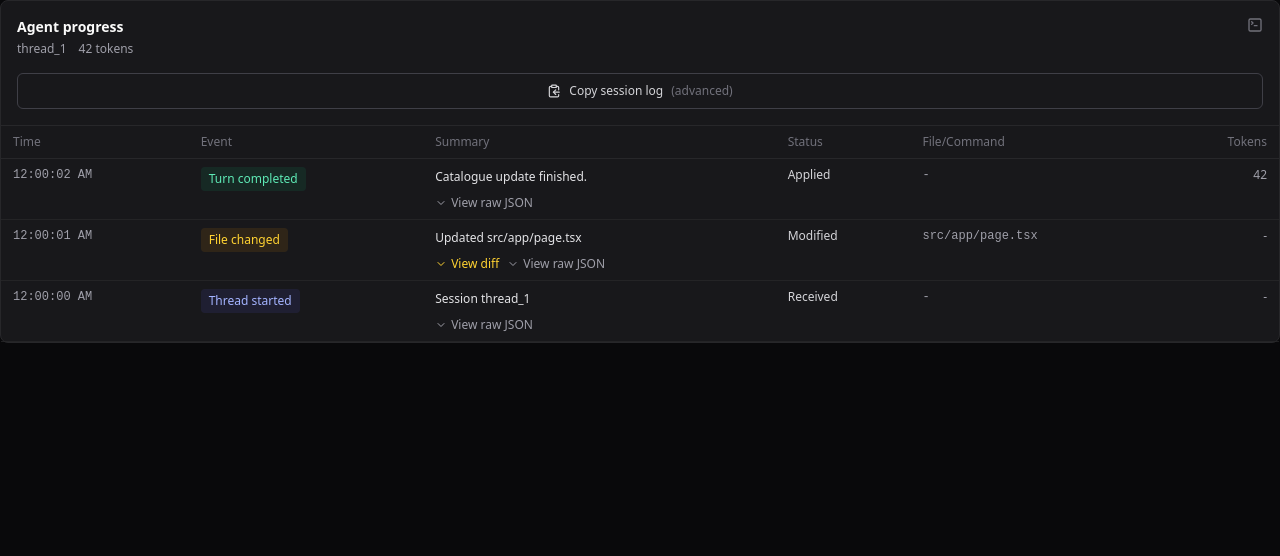
DebugPanel › keeps raw JSON hidden by default and visible when expanded
Click the button "View raw JSON" below "Updated src/app/page.tsx": (556, 264) [507,256,605,272]
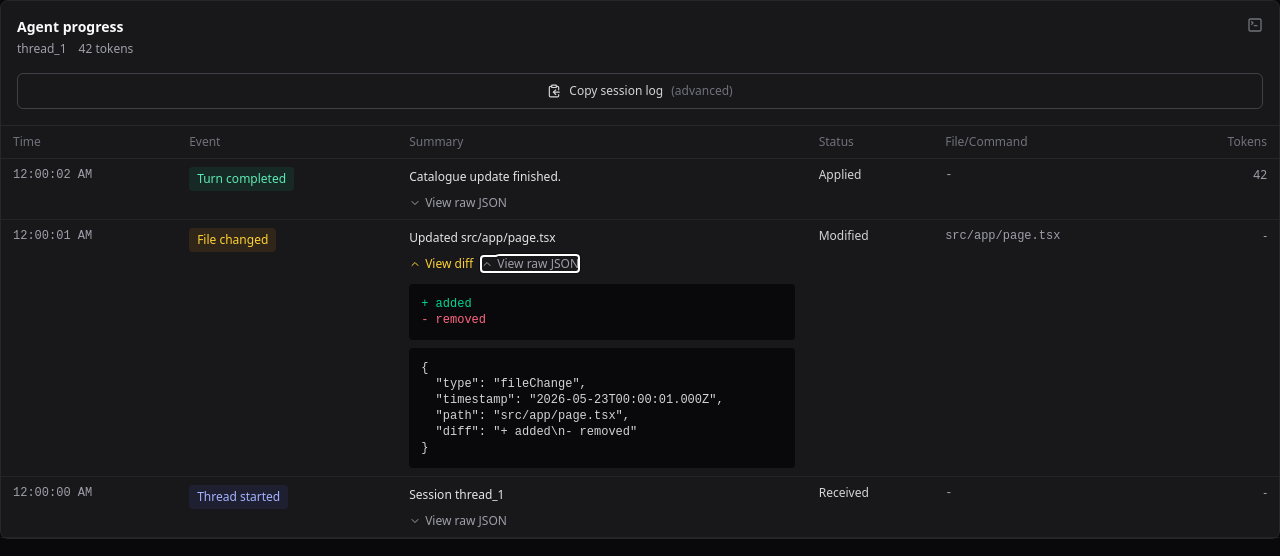
Expected: the text "\"path\": \"src/app/page.tsx\"" is shown, [421,361,724,455]
